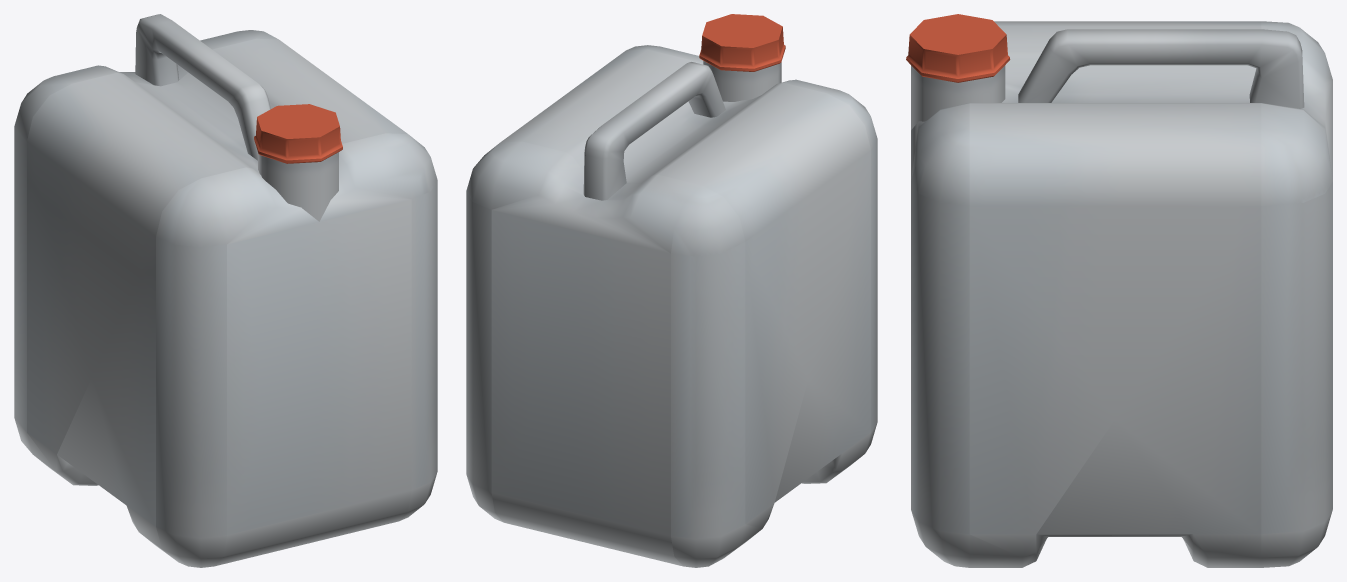
The model's file is SlopChute.fbx.
3 views of the same model, side by side, from view 1: azimuth 30°, elevation 25°; view 2: azimuth 150°, elevation 25°; view 3: azimuth 270°, elevation 25° (orthographic). The views are drawn at different scales.
Visible parts, largest first — view 1: SlopChute; view 2: SlopChute; view 3: SlopChute.
Boxes of the visible parts, x1,y1,x2,y2 form: SlopChute: [14, 14, 437, 567]; SlopChute: [466, 14, 877, 567]; SlopChute: [906, 14, 1332, 567].
Size of the model in its own units: 32.19 by 47.41 by 38.37.
Materials: 1 (1 with a texture image).
